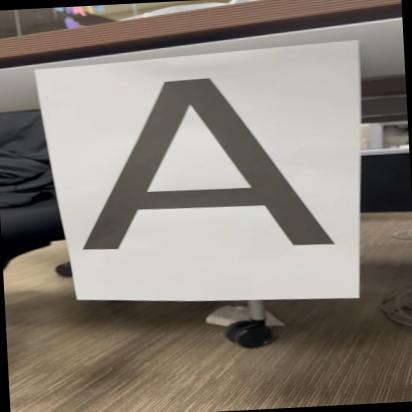seat: (55, 61, 366, 270)
